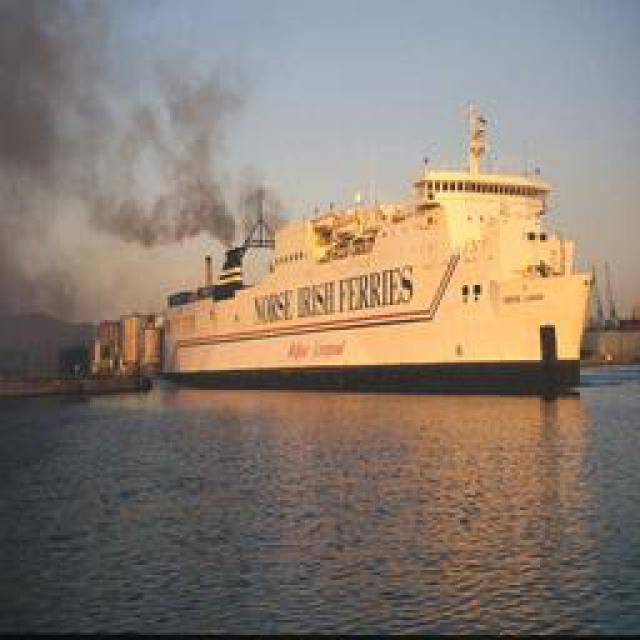Ship: (146, 102, 597, 403)
